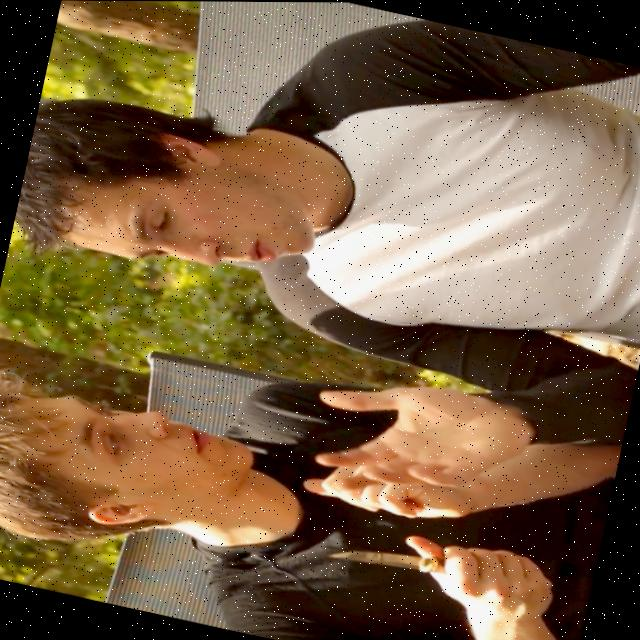knife: (318, 515, 442, 587)
